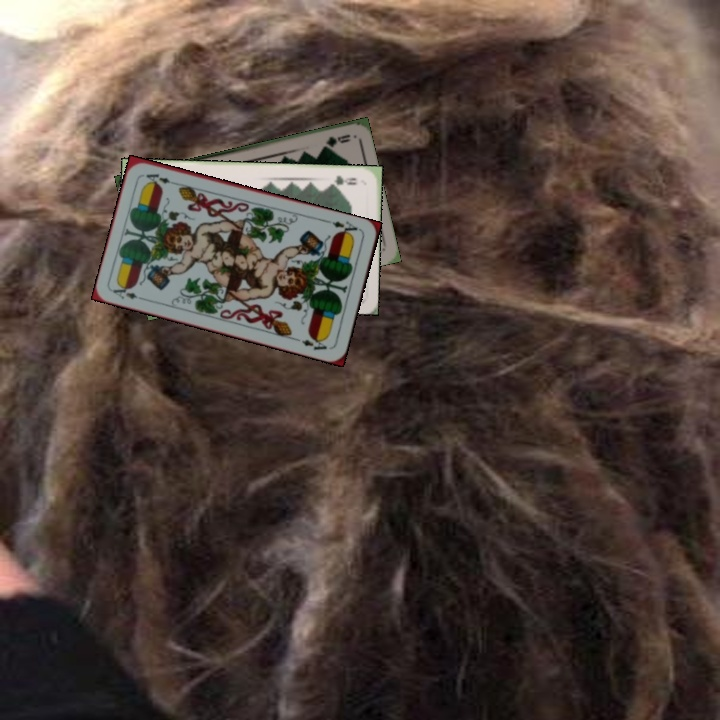EA: (323, 216, 363, 239), (109, 281, 149, 303)
G9: (317, 130, 353, 151), (326, 171, 359, 188)
